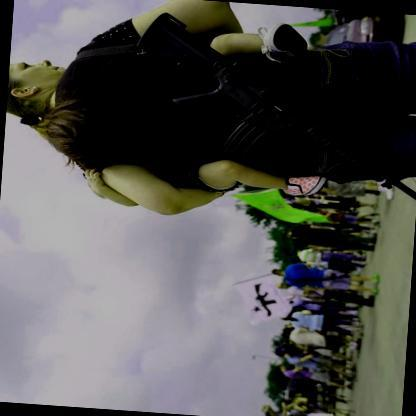rifle: (121, 7, 416, 215)
